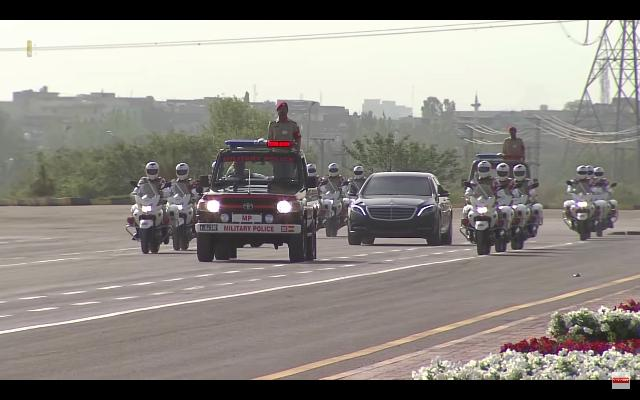plate: (197, 223, 219, 231)
